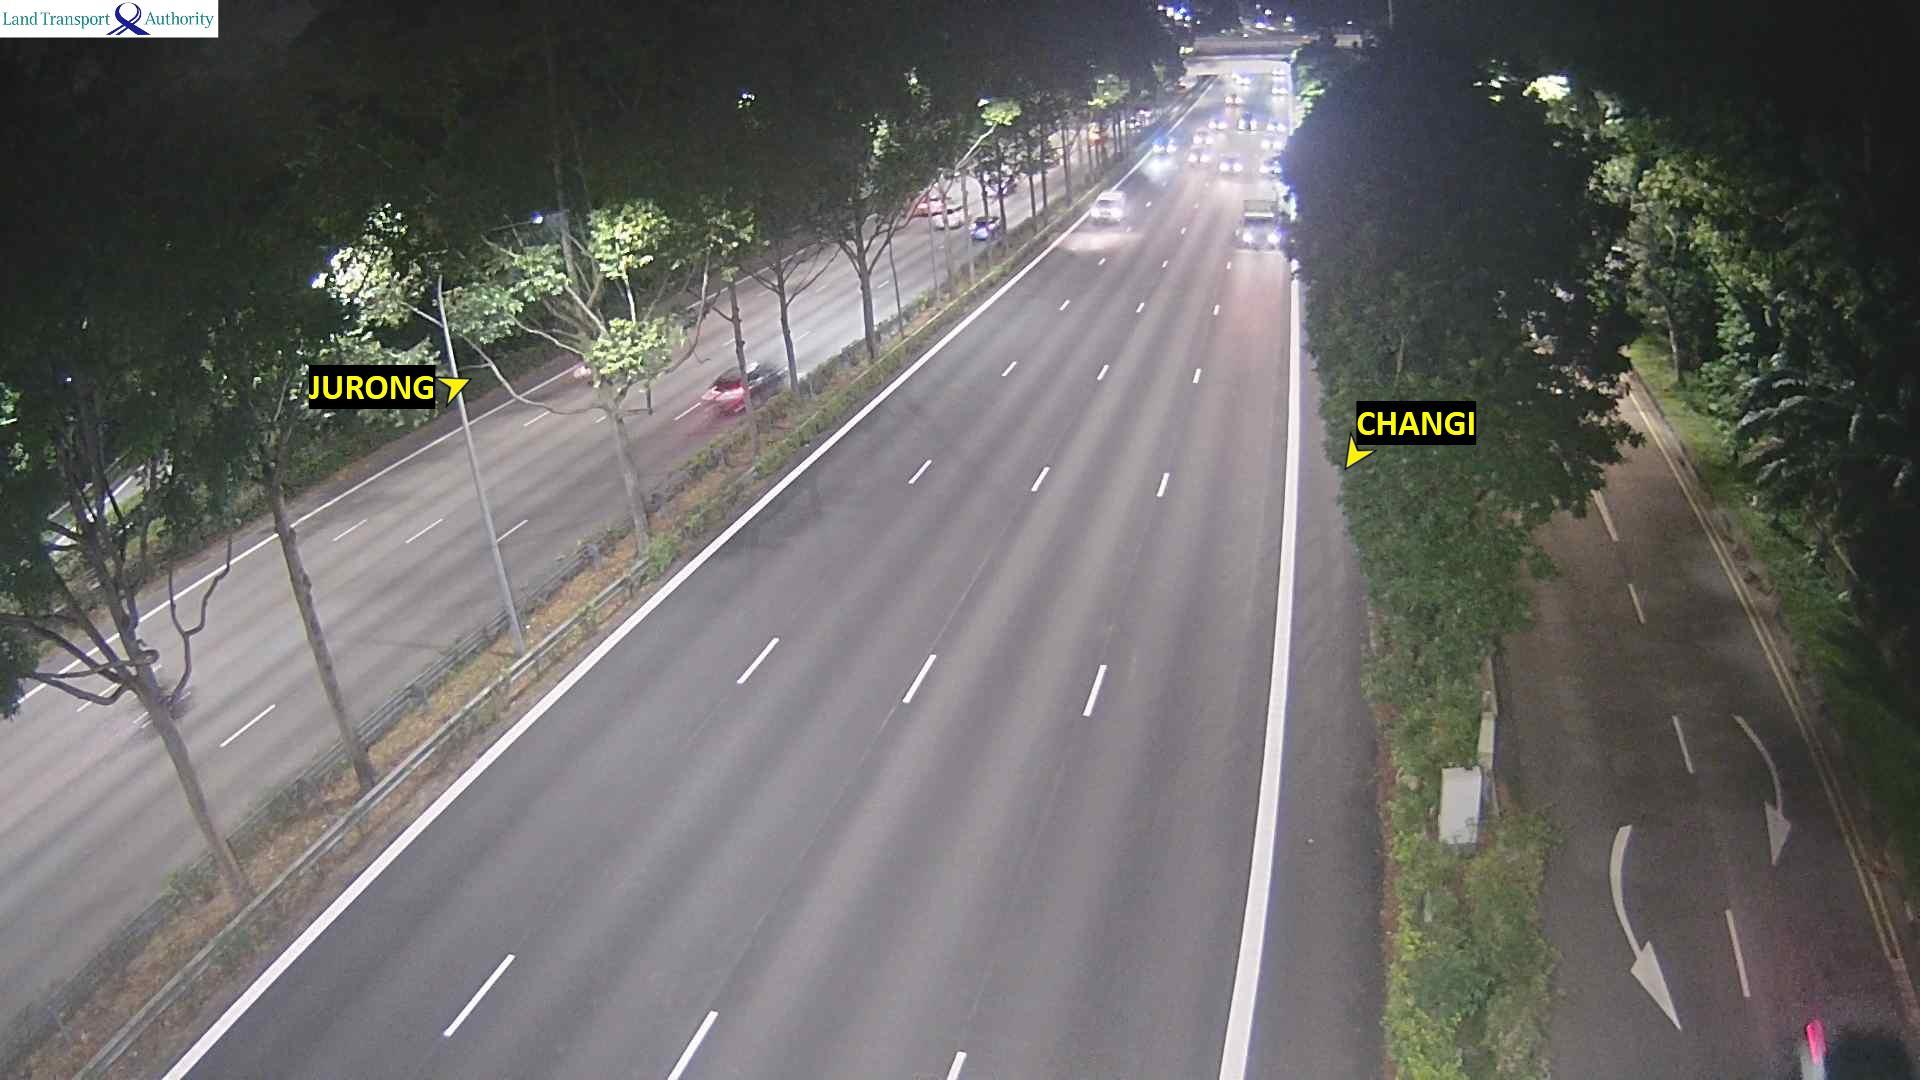incoming: (1234, 212, 1284, 252), (1089, 196, 1127, 225), (1216, 154, 1245, 177), (1258, 158, 1284, 179), (1187, 146, 1213, 167), (1151, 136, 1179, 154), (1192, 128, 1215, 146), (1236, 112, 1258, 131), (1205, 116, 1228, 132), (1224, 92, 1247, 107)
